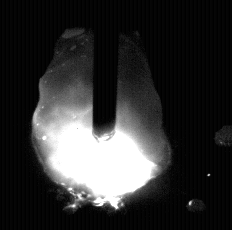arame: (93, 0, 117, 138)
poca: (32, 0, 168, 230)
